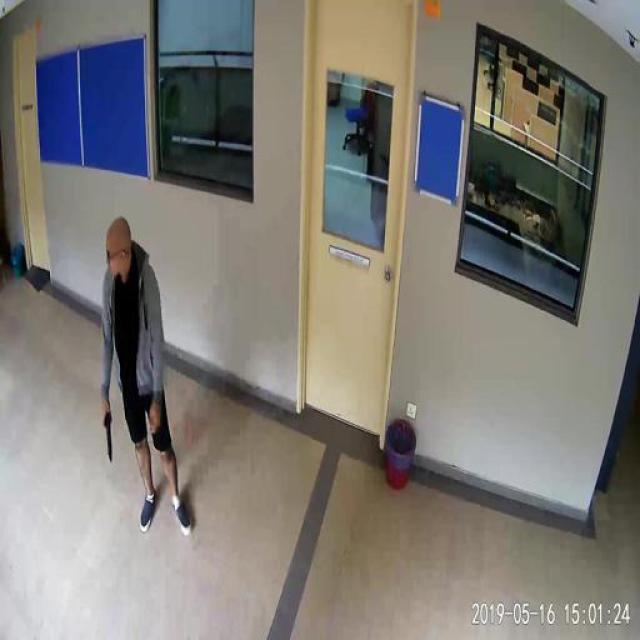weapon: (97, 399, 116, 463)
